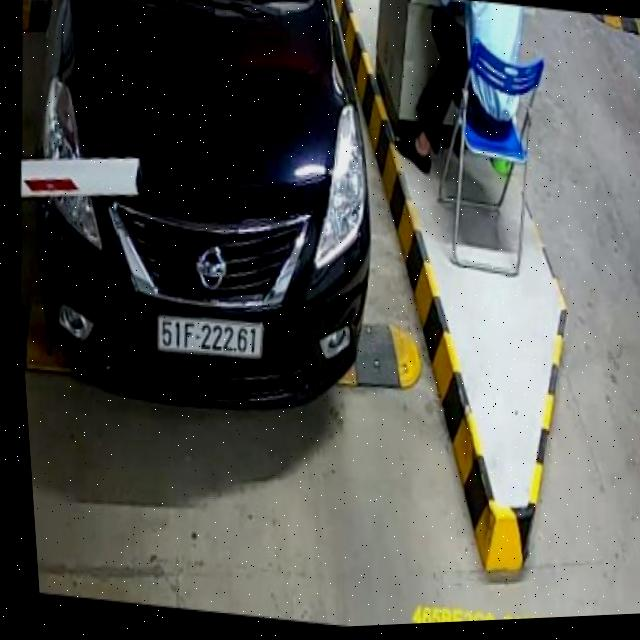car: (16, 0, 387, 420)
plate: (151, 301, 269, 367)
